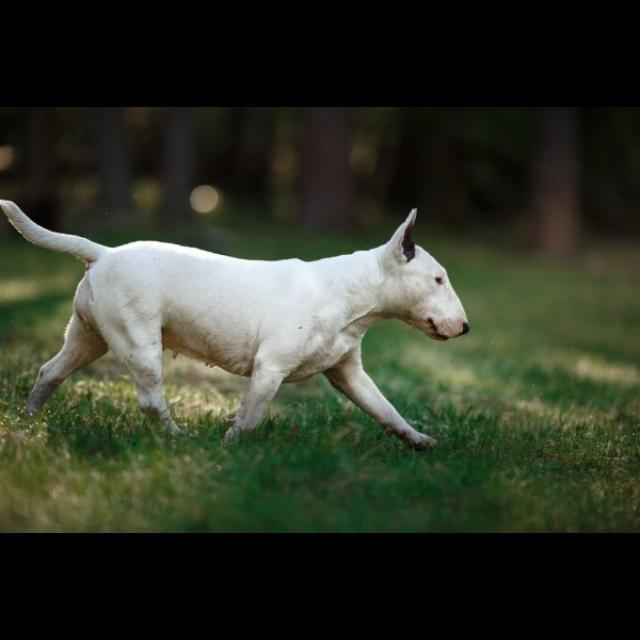bullterrier: (1, 198, 471, 452)
